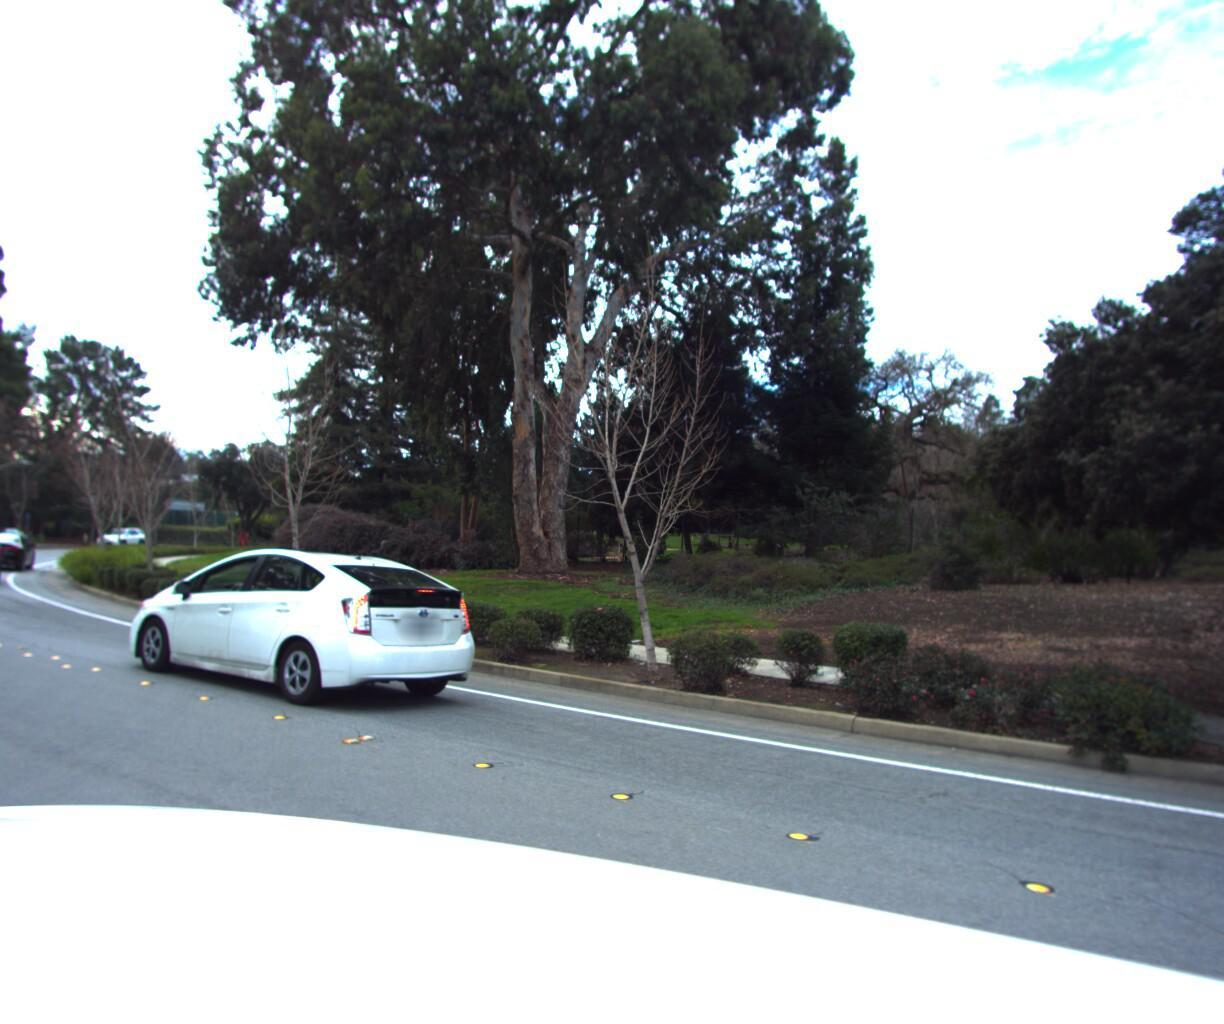car: (114, 540, 508, 728), (0, 530, 35, 573), (94, 523, 151, 548), (0, 518, 4, 585)
